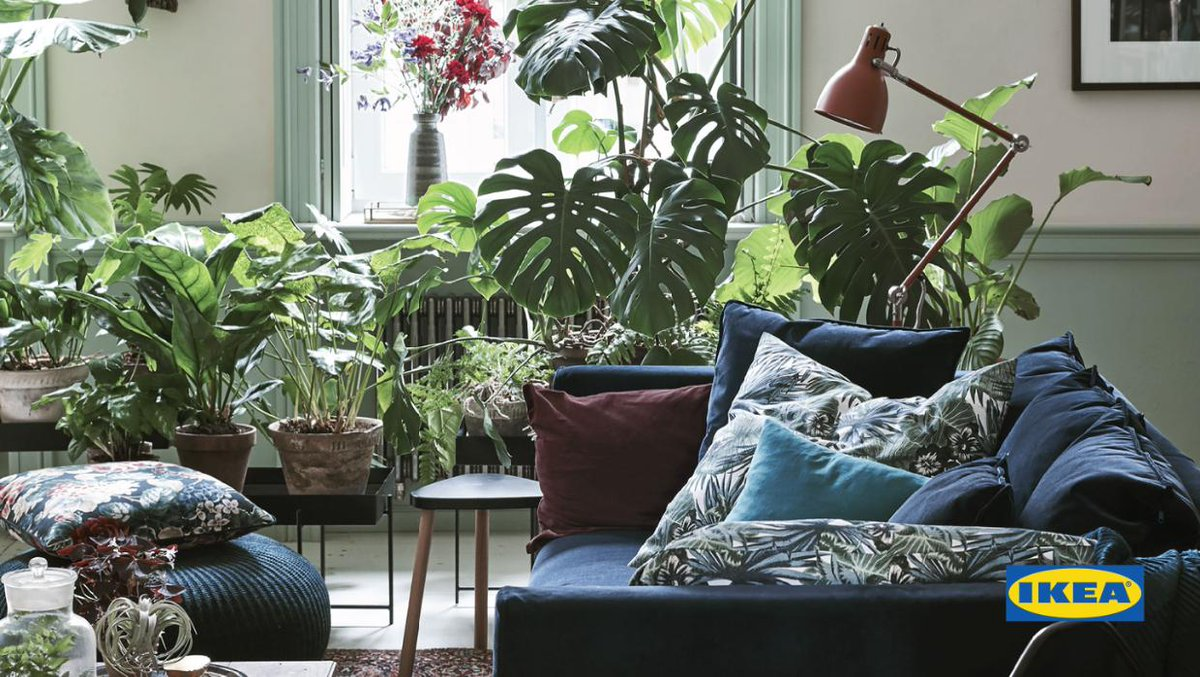Bantal: (525, 382, 708, 537), (1, 458, 275, 560), (722, 422, 916, 521)
Sova: (538, 358, 1200, 677)
Tanaman: (480, 3, 710, 354), (124, 248, 258, 464), (261, 263, 380, 495), (358, 1, 494, 204), (1, 229, 91, 427)
lampu: (813, 15, 920, 143)
